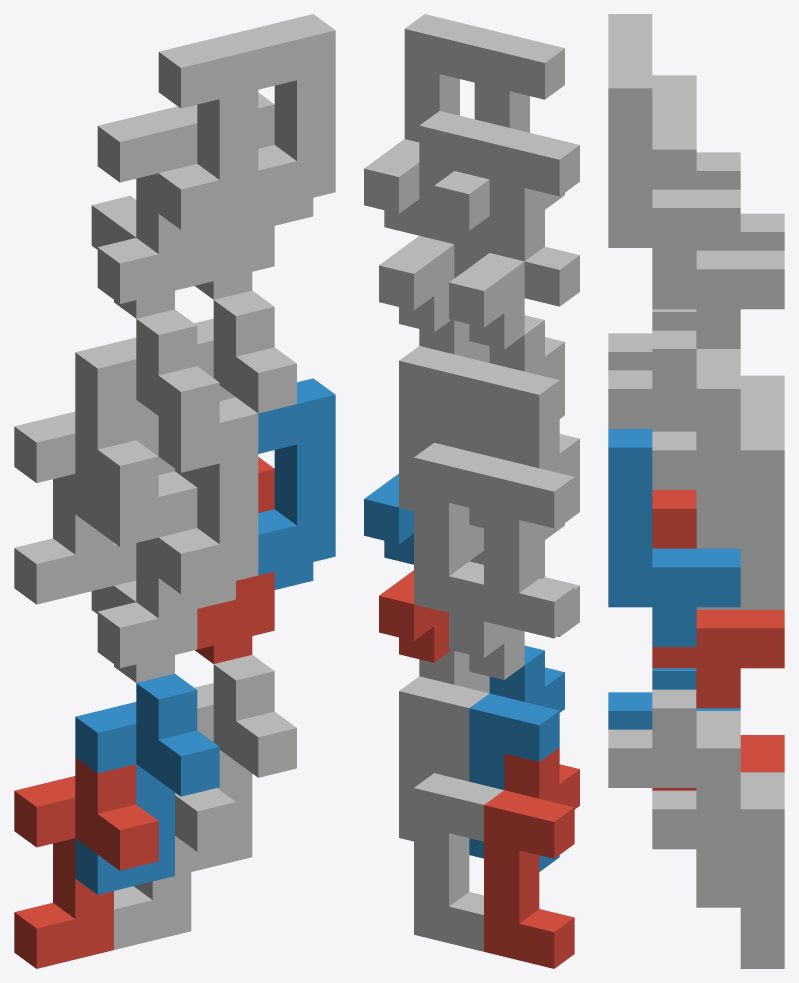
Rendered from tiling.obj.
The picture shows the model from 3 angles, left to right: view 1: azimuth 30°, elevation 25°; view 2: azimuth 150°, elevation 25°; view 3: azimuth 270°, elevation 25°; orthographic projection. The views are drawn at different scales.
Parts seen in each view (by area): view 1: copy_1_domain_1, copy_1_domain_3, copy_2_domain_4, copy_2_domain_3, copy_1_domain_2, copy_2_domain_2, copy_2_domain_1, copy_2_domain_8, copy_1_domain_4, copy_2_domain_6, copy_1_domain_6, copy_1_domain_8 (+4 smaller); view 2: copy_2_domain_3, copy_1_domain_1, copy_1_domain_3, copy_1_domain_5, copy_1_domain_7, copy_2_domain_7, copy_2_domain_8, copy_2_domain_4, copy_1_domain_4, copy_1_domain_2, copy_1_domain_6, copy_1_domain_8 (+4 smaller); view 3: copy_2_domain_8, copy_1_domain_6, copy_1_domain_8, copy_2_domain_6, copy_2_domain_7, copy_1_domain_5, copy_1_domain_7, copy_2_domain_5, copy_2_domain_3, copy_2_domain_4, copy_1_domain_2, copy_1_domain_4 (+2 smaller).
Boxes of the visible parts, x1,y1,x2,y2 form: copy_1_domain_1: (14,757,158,968); copy_1_domain_3: (14,393,158,604); copy_2_domain_4: (158,33,258,244); copy_2_domain_3: (91,107,197,318); copy_1_domain_2: (75,673,219,894); copy_2_domain_2: (158,397,258,608); copy_2_domain_1: (91,471,197,682); copy_2_domain_8: (236,14,335,225); copy_1_domain_4: (75,309,219,530); copy_2_domain_6: (258,378,335,589); copy_1_domain_6: (175,655,296,875); copy_1_domain_8: (194,290,296,413); copy_2_domain_3: (449,128,579,349); copy_1_domain_1: (484,747,579,968); copy_1_domain_3: (484,417,579,638); copy_1_domain_5: (414,736,503,951); copy_1_domain_7: (414,406,503,621); copy_2_domain_7: (379,111,508,332); copy_2_domain_8: (364,14,494,235); copy_2_domain_4: (434,31,564,252); copy_1_domain_4: (469,315,564,541); copy_1_domain_2: (469,645,564,871); copy_1_domain_6: (399,650,489,841); copy_1_domain_8: (399,320,489,510); copy_2_domain_8: (608,51,740,287); copy_1_domain_6: (608,689,740,907); copy_1_domain_8: (608,330,740,548); copy_2_domain_6: (608,429,740,646); copy_2_domain_7: (652,112,784,348); copy_1_domain_5: (652,772,784,968); copy_1_domain_7: (652,413,784,609); copy_2_domain_5: (652,490,784,708); copy_2_domain_3: (652,75,784,250); copy_2_domain_4: (608,14,740,189); copy_1_domain_2: (608,668,740,729); copy_1_domain_4: (608,309,740,370).
Bounding box in the file's own units: 6 × 23 × 4.
